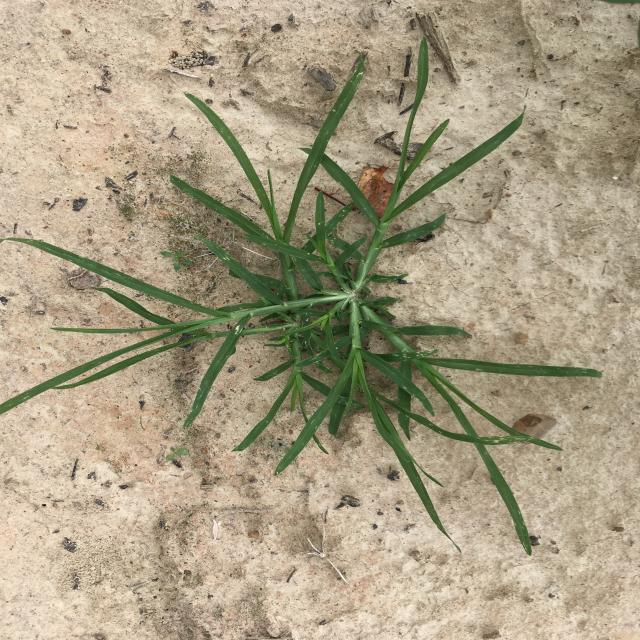Goosegrass: (0, 38, 602, 556)
